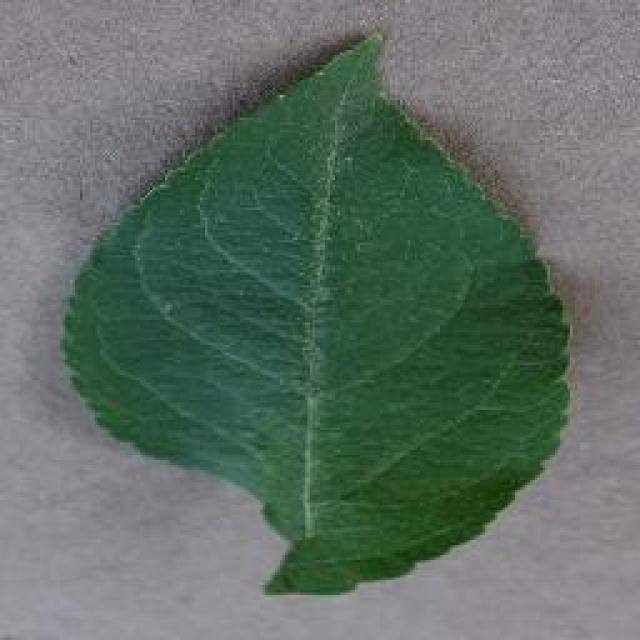apple healthy: (57, 27, 575, 595)
